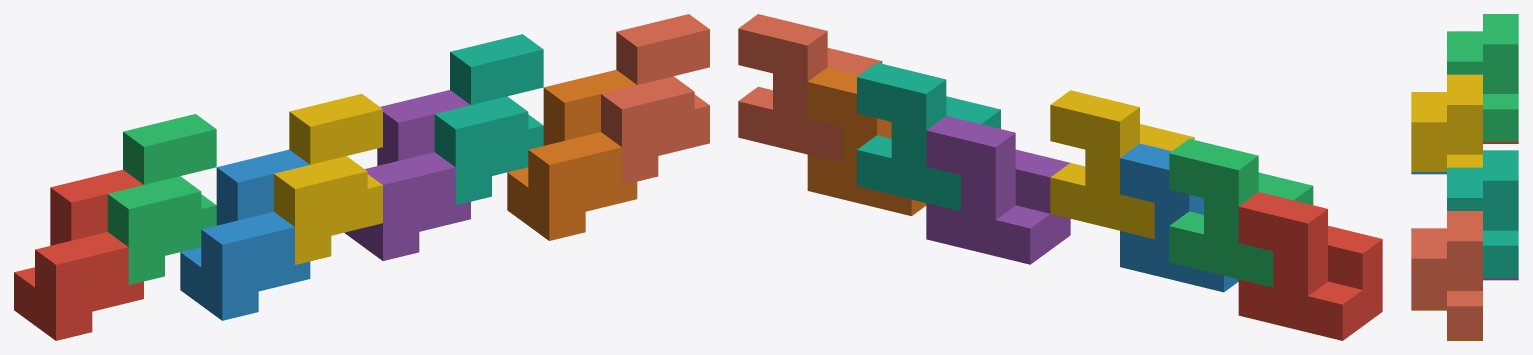
The model's file is tiling.obj.
The picture shows the model from 3 angles, left to right: view 1: azimuth 30°, elevation 25°; view 2: azimuth 150°, elevation 25°; view 3: azimuth 270°, elevation 25°; orthographic projection. The views are drawn at different scales.
Visible parts, largest first — view 1: copy_1_domain_6, copy_1_domain_2, copy_1_domain_1, copy_1_domain_4, copy_1_domain_8, copy_1_domain_3, copy_1_domain_7, copy_1_domain_5; view 2: copy_1_domain_1, copy_1_domain_5, copy_1_domain_3, copy_1_domain_7, copy_1_domain_4, copy_1_domain_8, copy_1_domain_2, copy_1_domain_6; view 3: copy_1_domain_8, copy_1_domain_4, copy_1_domain_7, copy_1_domain_3, copy_1_domain_6, copy_1_domain_1, copy_1_domain_2, copy_1_domain_5.
Boxes of the visible parts, bbox=[...] form: copy_1_domain_6: bbox=[507, 70, 637, 240]; copy_1_domain_2: bbox=[180, 149, 310, 320]; copy_1_domain_1: bbox=[14, 169, 143, 340]; copy_1_domain_4: bbox=[274, 94, 382, 264]; copy_1_domain_8: bbox=[601, 14, 709, 185]; copy_1_domain_3: bbox=[107, 114, 216, 284]; copy_1_domain_7: bbox=[434, 34, 543, 205]; copy_1_domain_5: bbox=[344, 90, 470, 260]; copy_1_domain_1: bbox=[1238, 192, 1382, 340]; copy_1_domain_5: bbox=[926, 116, 1070, 264]; copy_1_domain_3: bbox=[1169, 138, 1313, 287]; copy_1_domain_7: bbox=[857, 62, 1000, 211]; copy_1_domain_4: bbox=[1050, 90, 1194, 238]; copy_1_domain_8: bbox=[738, 14, 882, 162]; copy_1_domain_2: bbox=[1120, 143, 1238, 292]; copy_1_domain_6: bbox=[807, 67, 926, 215]; copy_1_domain_8: bbox=[1411, 211, 1482, 338]; copy_1_domain_4: bbox=[1411, 74, 1482, 171]; copy_1_domain_7: bbox=[1447, 150, 1518, 278]; copy_1_domain_3: bbox=[1447, 14, 1518, 141]; copy_1_domain_6: bbox=[1411, 308, 1482, 340]; copy_1_domain_1: bbox=[1483, 141, 1518, 143]; copy_1_domain_2: bbox=[1411, 172, 1446, 174]; copy_1_domain_5: bbox=[1483, 278, 1518, 280].
Size of the model in its own units: 18 by 4 by 3.
